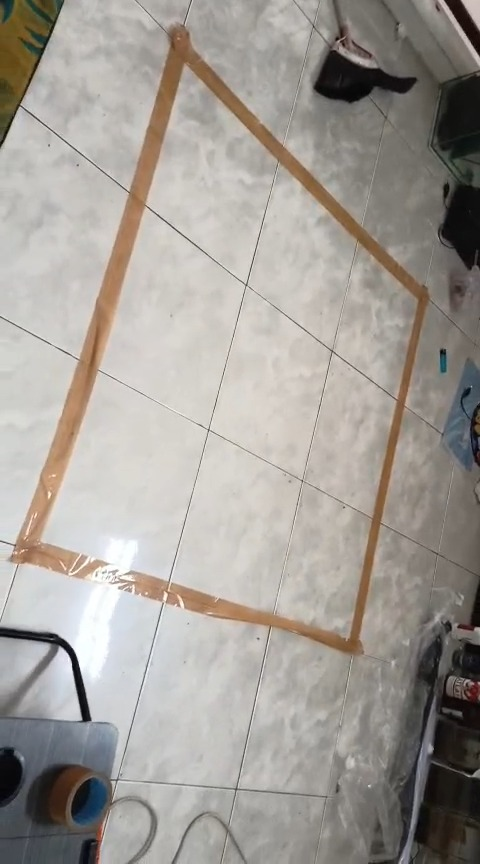floor marking: (11, 25, 426, 653)
